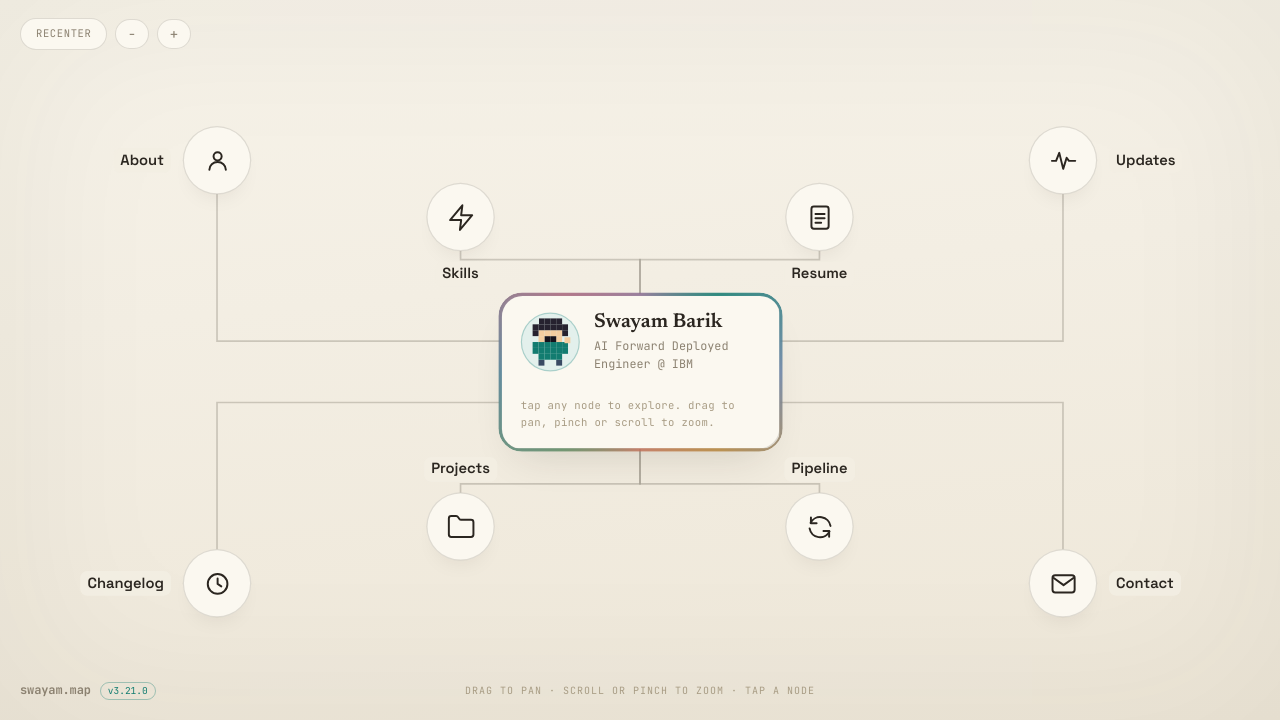
Test: addressable map › back restores the previous selection instead of leaving the site
Click the button "Skills" at (460, 217), box x1=426 y1=183 x2=495 y2=251
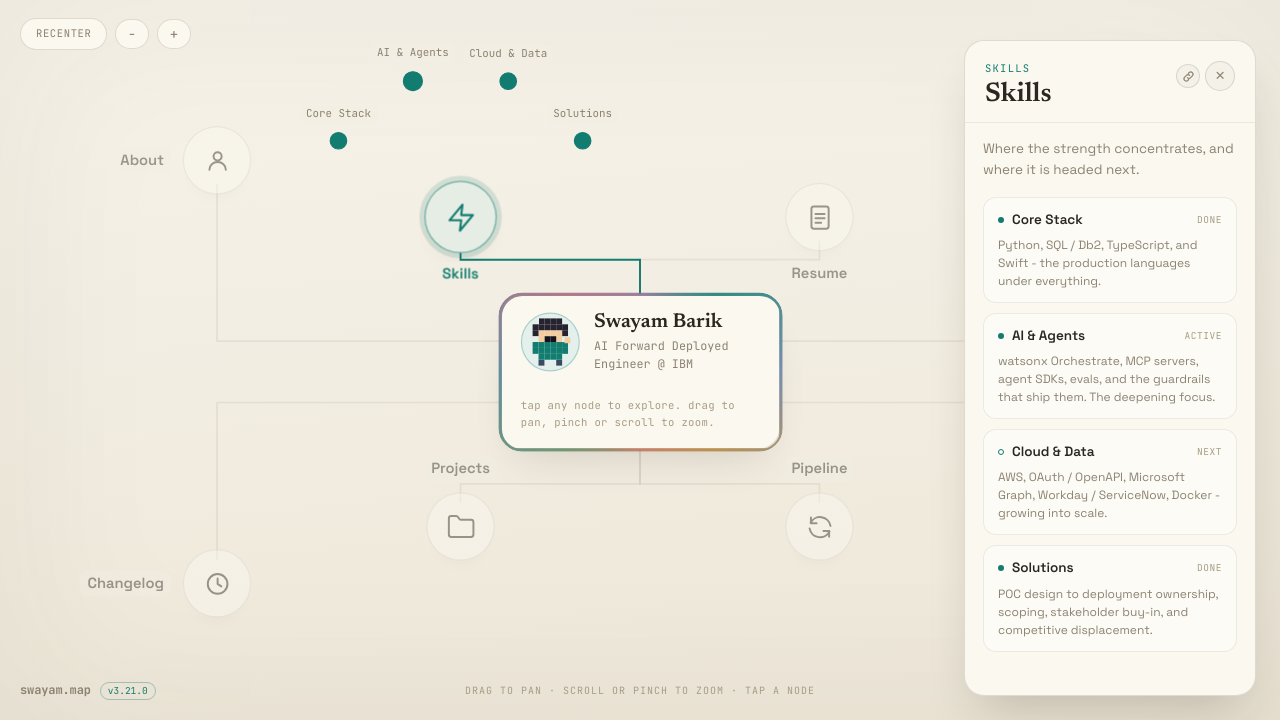
Click the button "Core Stack" at (338, 141), box x1=330 y1=132 x2=347 y2=150
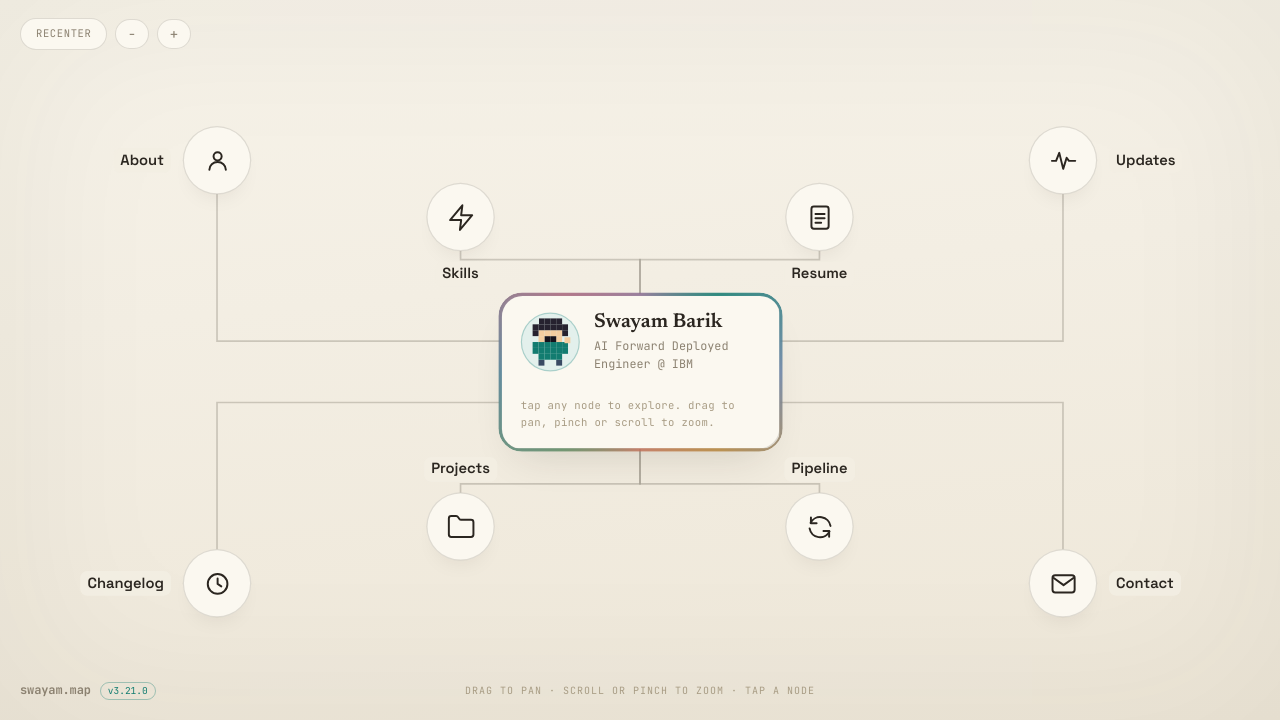
Check: the element with class "sm-panel-open" is gone
